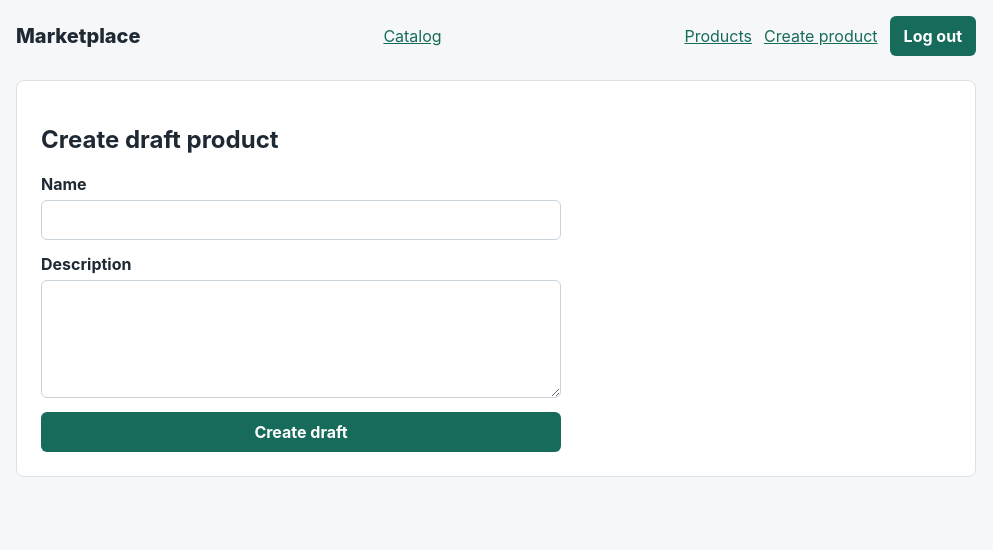
seller app › create product form validates product name before API request
In the field labelled "Name": (301, 220) [41, 200, 561, 240], type "ab"
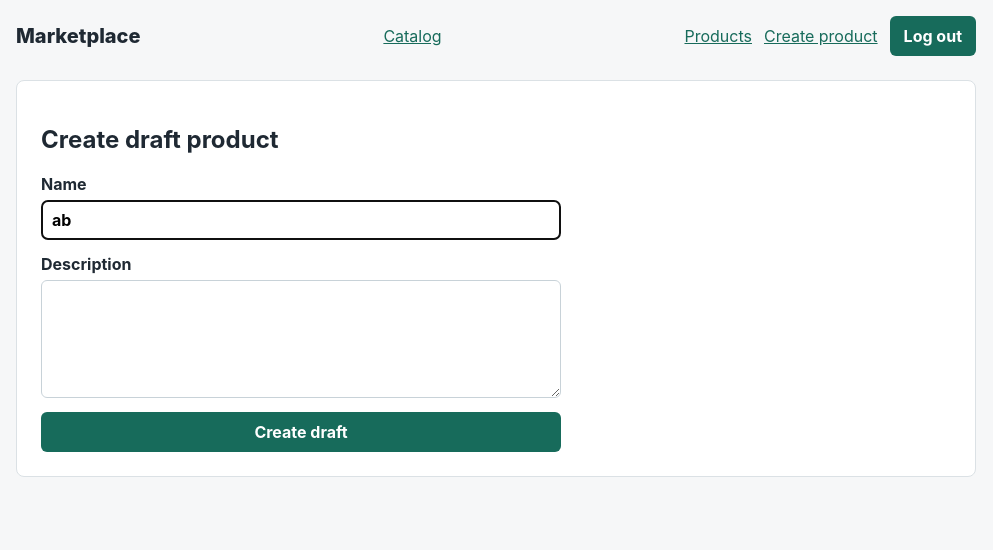
Click the button "Create draft": (301, 432) [41, 412, 561, 452]
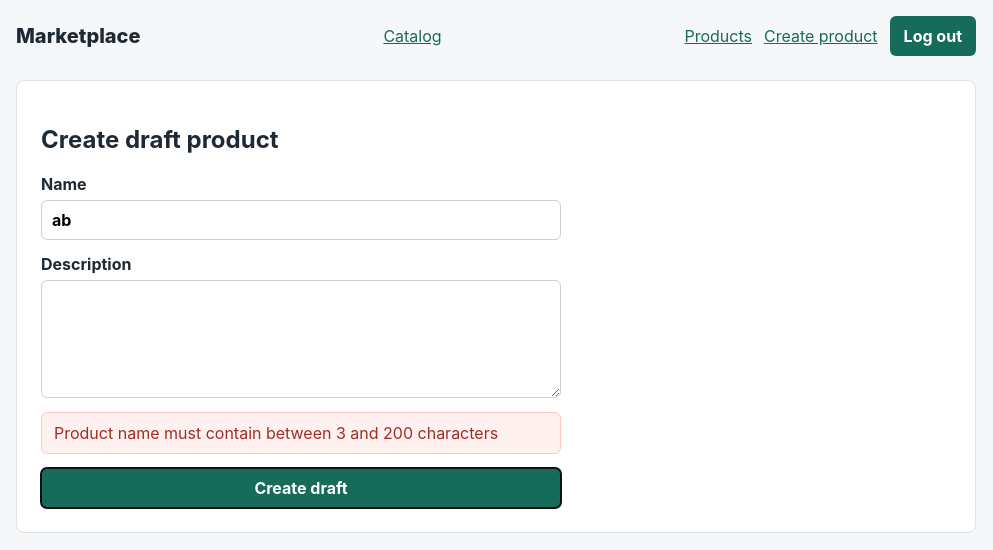
Result: the message reads "Product name must contain between 3 and 200 characters" at [54, 423, 498, 443]
